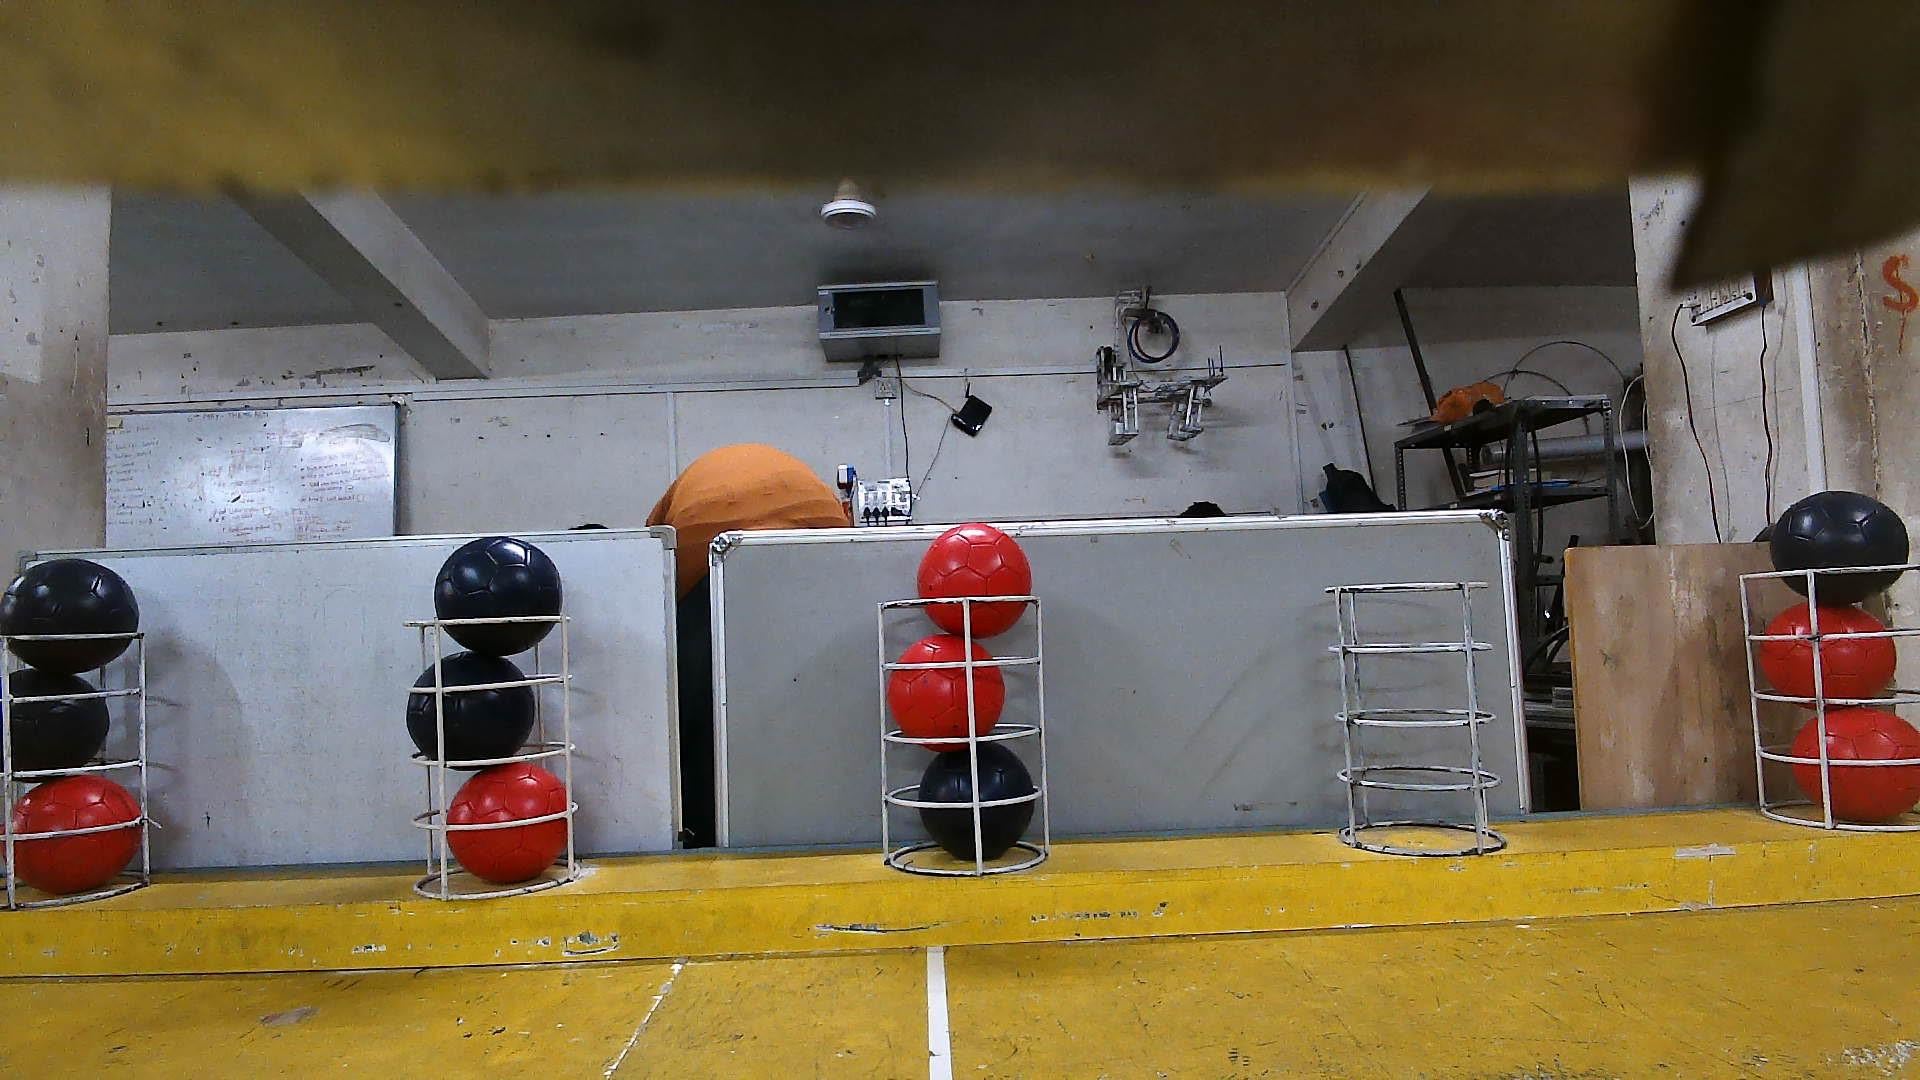dhoka: (0, 556, 137, 671), (1774, 492, 1909, 604), (411, 651, 533, 770), (0, 670, 109, 785), (919, 748, 1034, 856), (439, 541, 555, 645)
laale: (1760, 603, 1898, 709), (447, 766, 567, 885), (13, 778, 133, 894), (1793, 711, 1919, 816), (887, 640, 1004, 750), (919, 526, 1031, 640)
